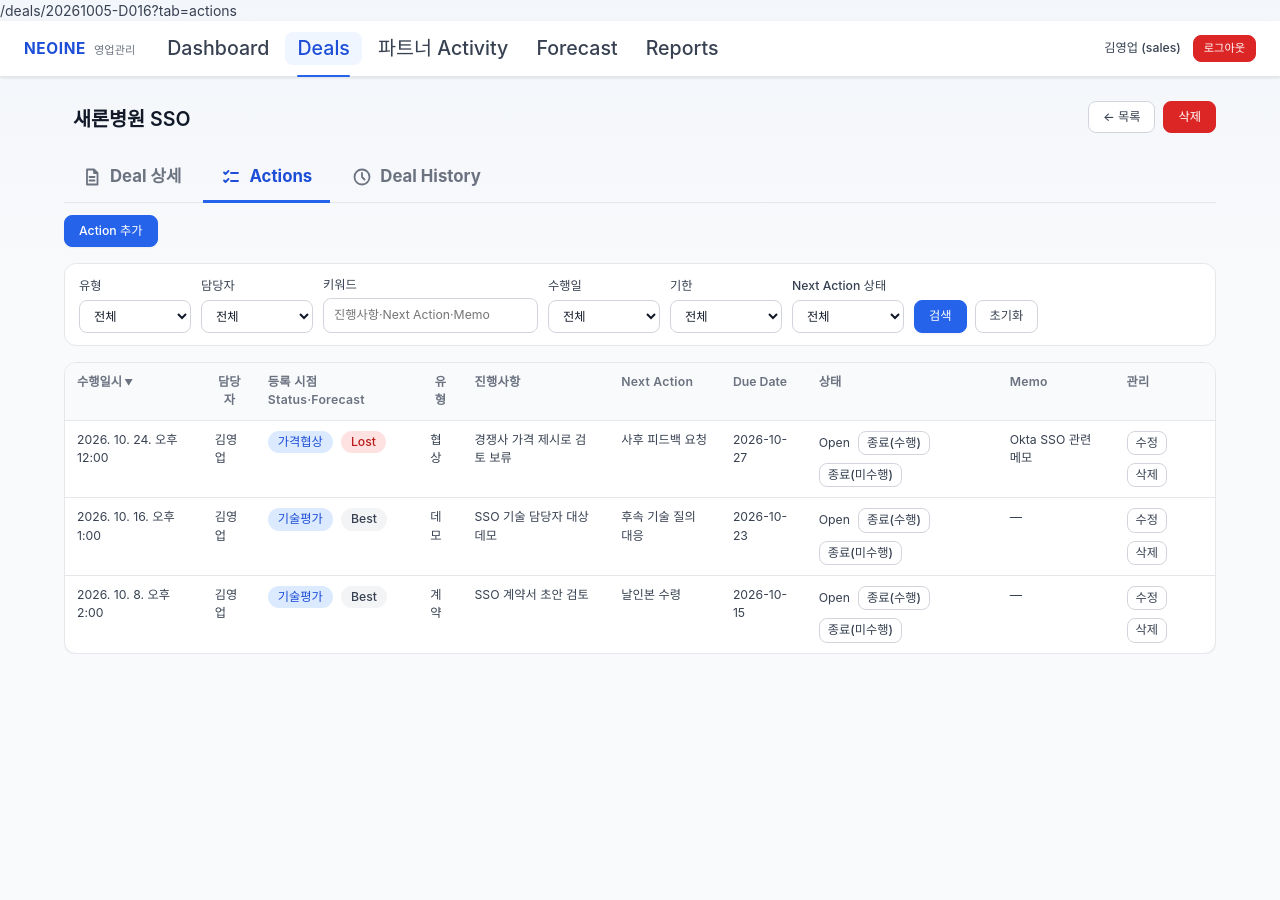
it: 대화상자 취소와 되돌리기 (AC-14·17) › keeps_previous_changes_when_a_dialog_is_cancelled
Expected: the heading "새론병원 SSO" is shown, [64, 101, 200, 138]
Click the button "Action 추가": (111, 231) [64, 215, 158, 247]
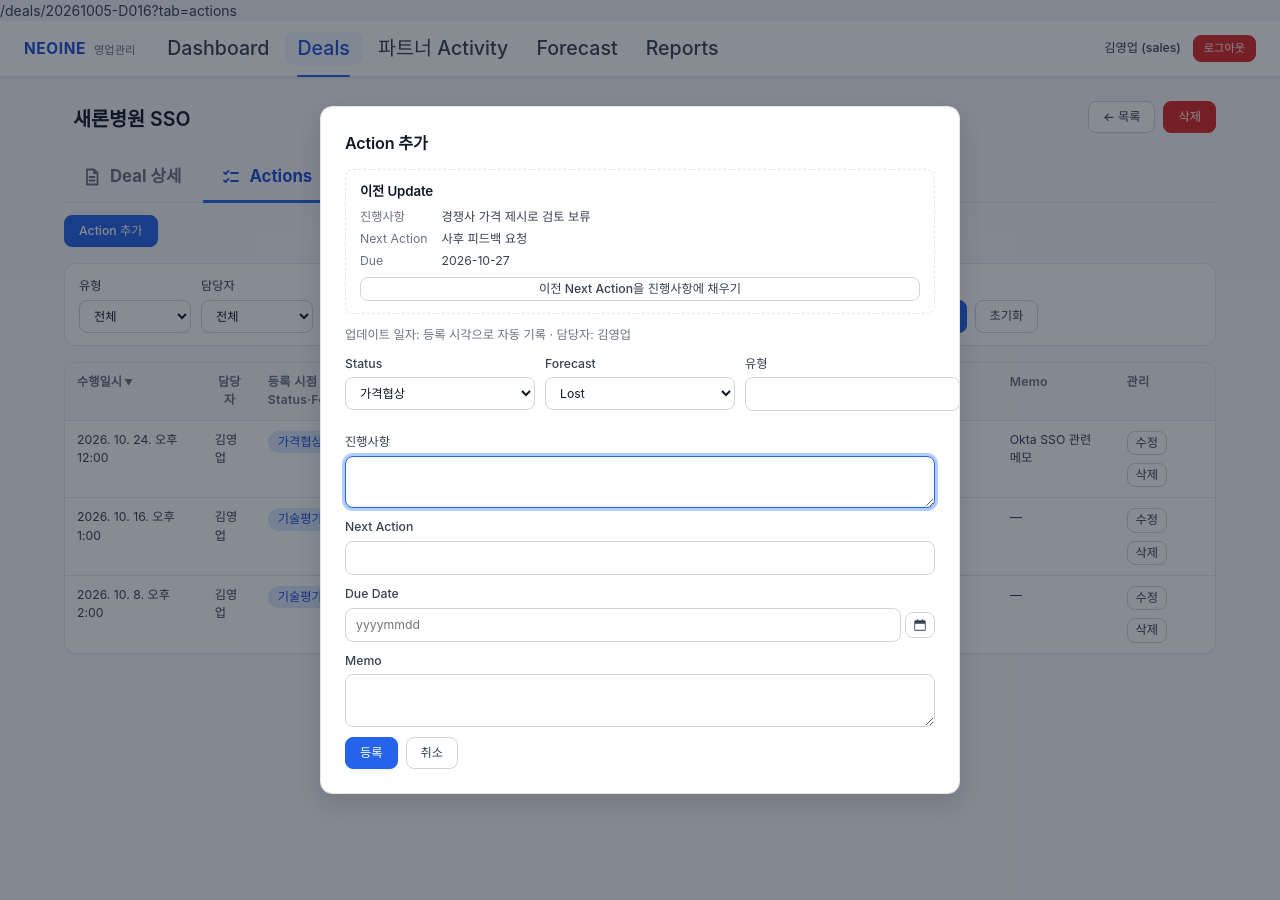
Select "기술평가" in the dropdown labelled "Status": (440, 393) [345, 377, 535, 410]
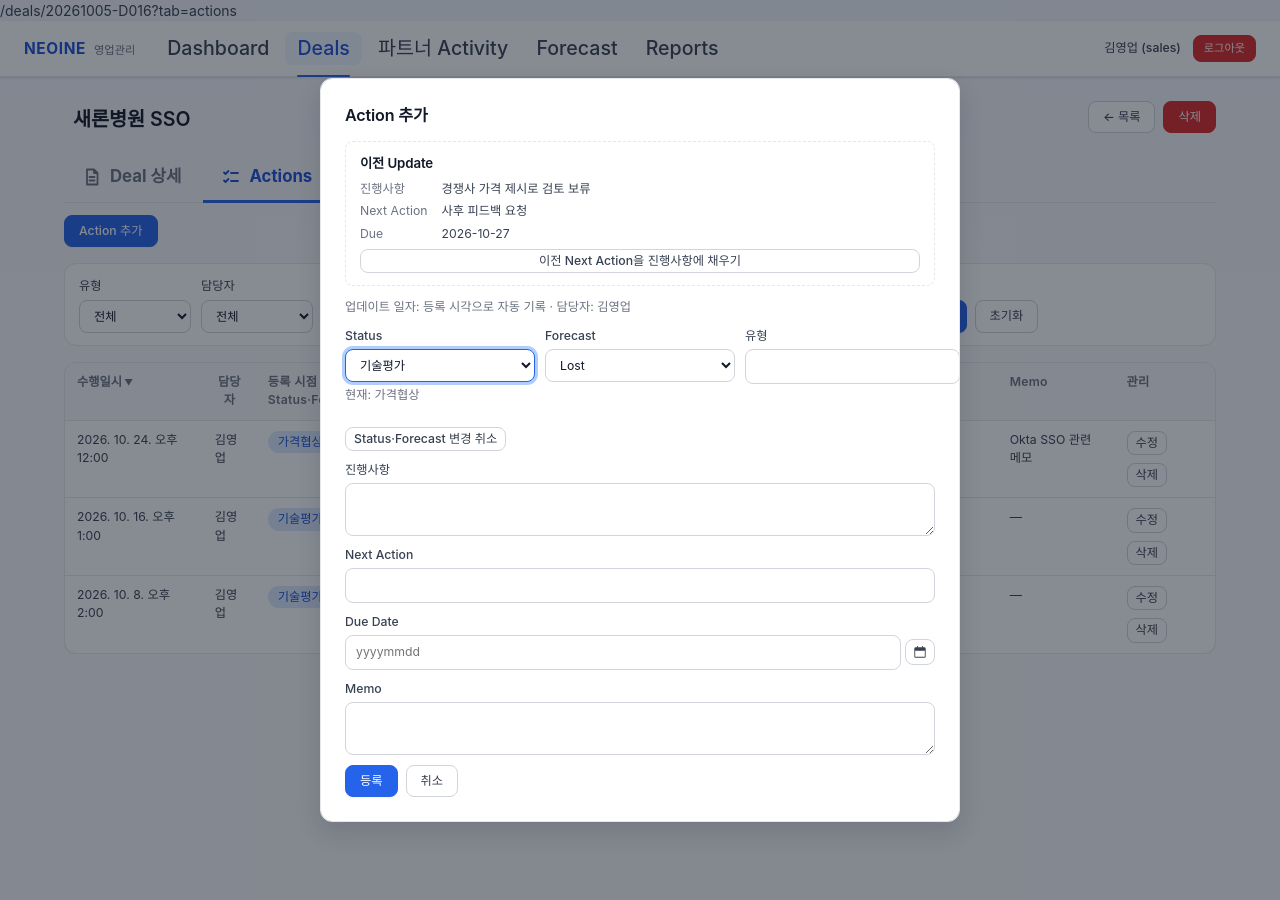
Select "Commit" in the dropdown labelled "Forecast": (640, 366) [545, 349, 735, 382]
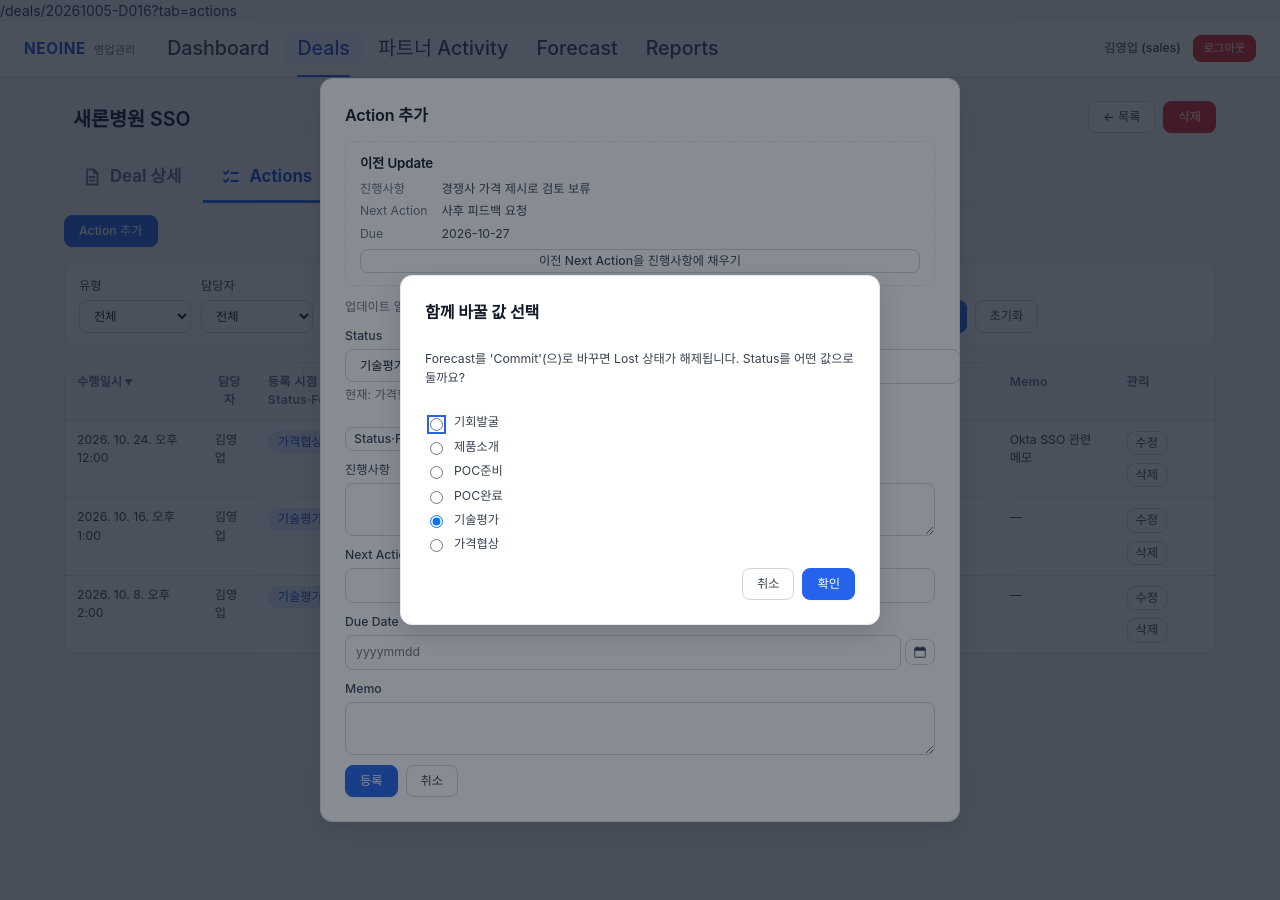
Click the button "취소": (768, 584) [742, 568, 794, 600]
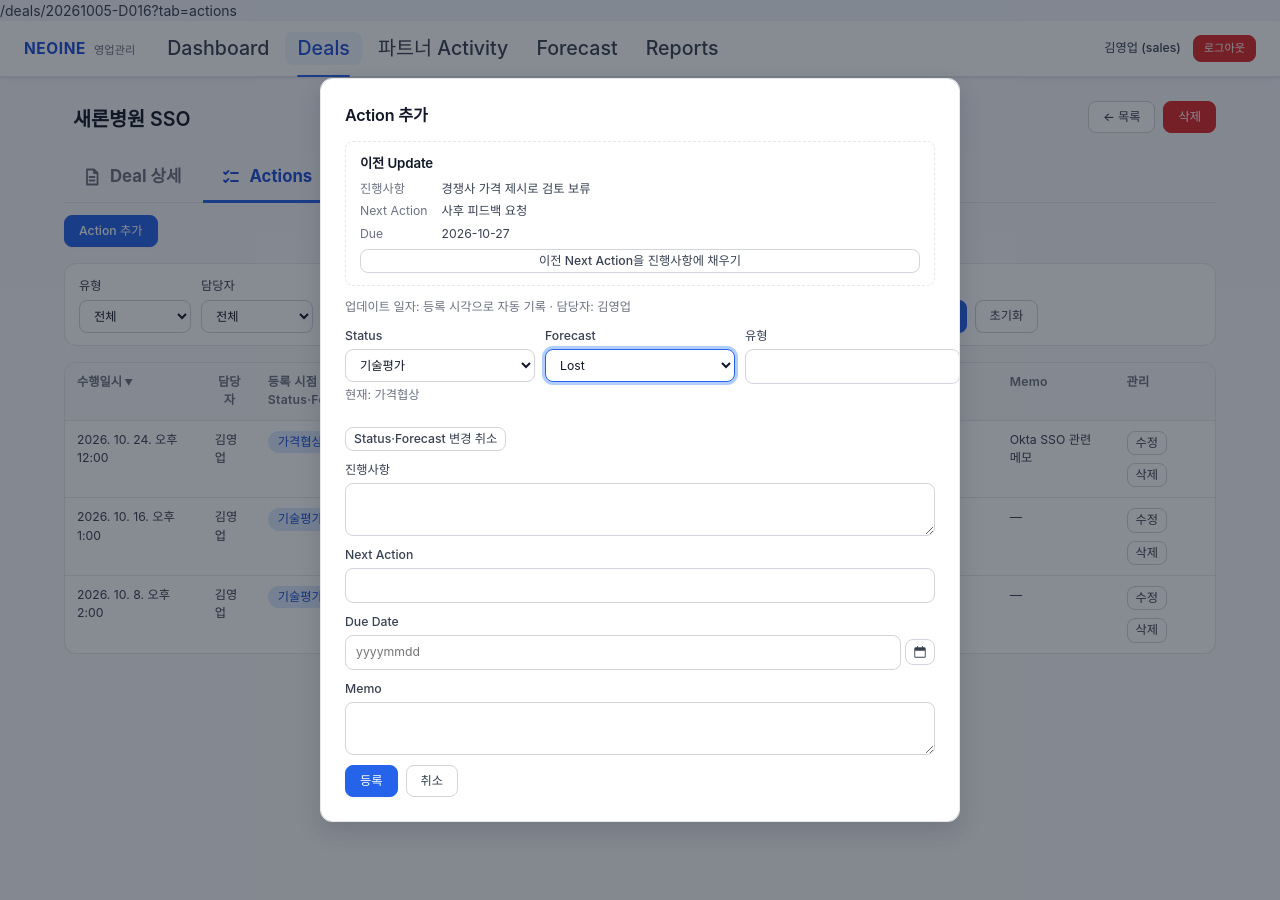
Expected: the text "현재: 가격협상" is shown, [345, 387, 420, 402]
Expected: the number of dialogs is 1, [320, 78, 960, 822]
